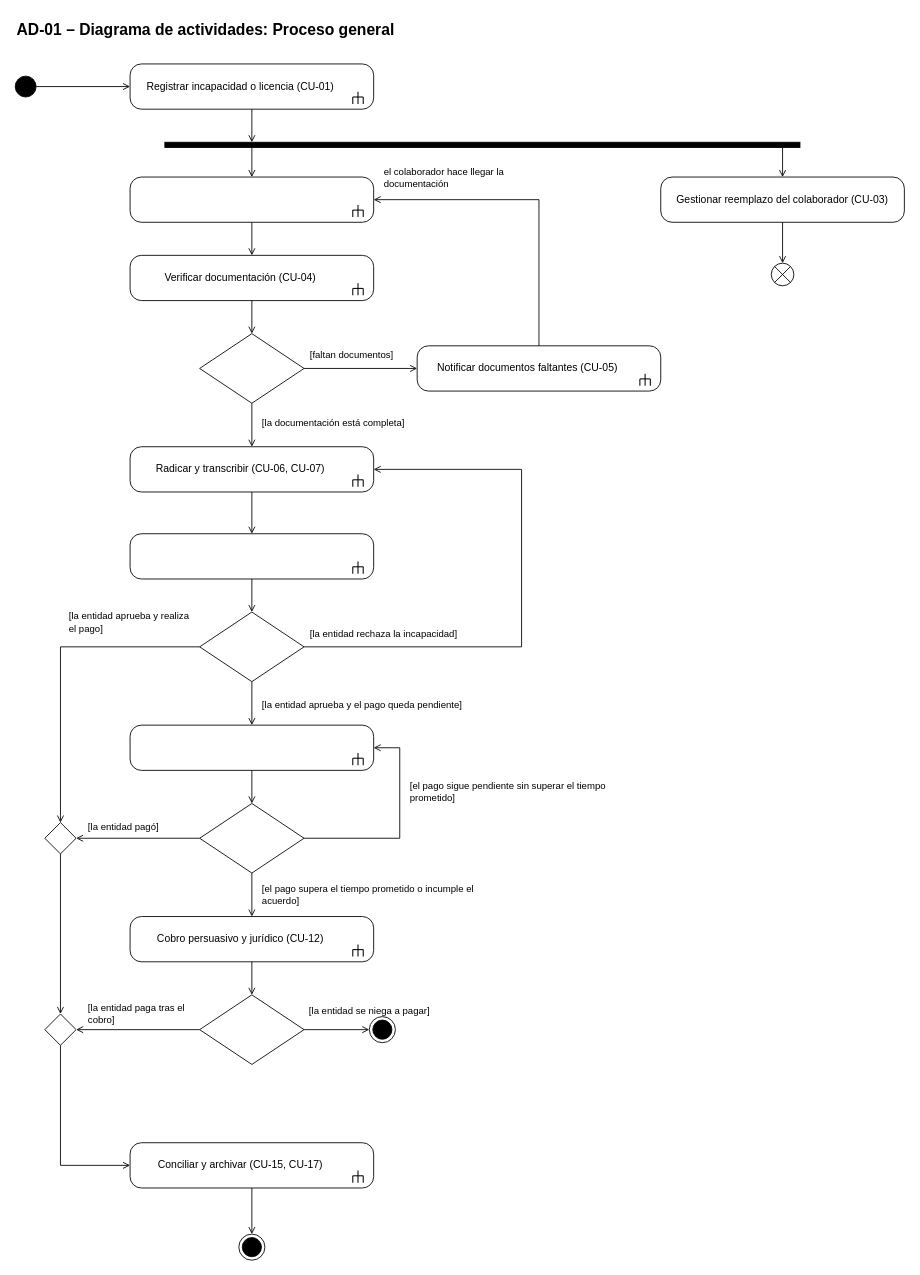
The diagram is 920 pixels wide and 1275 high, and some of its shapes have lost their labels. Each missing label, with the box of its shape:
Gestionar cobro (CU-10): (129, 533, 374, 579)
Registrar documentación recibida (CU-02): (129, 176, 374, 222)
Seguimiento al cobro (CU-11): (129, 724, 374, 770)
